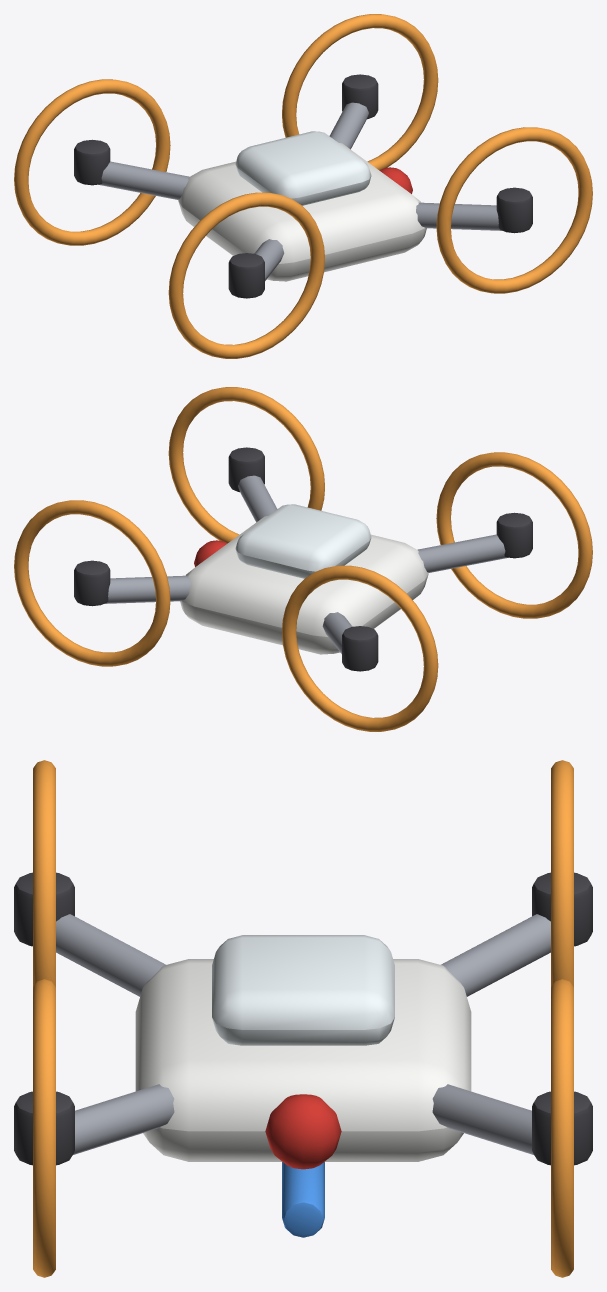
Rendered from drone.glb.
3 views of the same model, one above another, from view 1: azimuth 30°, elevation 25°; view 2: azimuth 150°, elevation 25°; view 3: azimuth 270°, elevation 25° (orthographic). The views are drawn at different scales.
Parts seen in each view (by area): view 1: body, canopy, guard0, guard1, guard2, guard3, arm2, arm0, motor1, motor0, motor2, motor3 (+2 smaller); view 2: body, canopy, guard3, guard2, guard1, guard0, arm1, arm3, motor2, motor3, motor1, motor0 (+2 smaller); view 3: body, canopy, guard0, guard3, guard1, guard2, eye, arm1, arm2, arm0, arm3, gun (+4 smaller).
Boxes of the visible parts, x1,y1,x2,y2 form: body: (178,143,426,281); canopy: (235,131,371,205); guard0: (436,127,592,293); guard1: (168,192,324,358); guard2: (14,79,170,245); guard3: (282,14,438,170); arm2: (98,161,189,199); arm0: (416,202,502,230); motor1: (228,253,264,298); motor0: (496,187,532,233); motor2: (74,139,110,185); motor3: (342,74,378,119); body: (180,516,428,654); canopy: (235,504,371,578); guard3: (14,500,170,666); guard2: (282,565,438,731); guard1: (436,452,592,618); guard0: (168,387,324,543); arm1: (417,534,508,572); arm3: (104,575,190,603); motor2: (342,626,378,671); motor3: (74,560,110,606); motor1: (496,512,532,558); motor0: (228,447,264,492); body: (135,959,471,1161); canopy: (212,935,394,1045); guard0: (33,979,55,1277); guard3: (551,979,573,1277); guard1: (33,760,55,986); guard2: (551,760,573,986); eye: (265,1094,341,1169); arm1: (56,914,165,996); arm2: (441,914,550,996); arm0: (73,1084,174,1154); arm3: (432,1084,533,1154); gun: (282,1162,324,1237).
Size of the model in its own units: 0.5354 by 0.202 by 0.3794.
